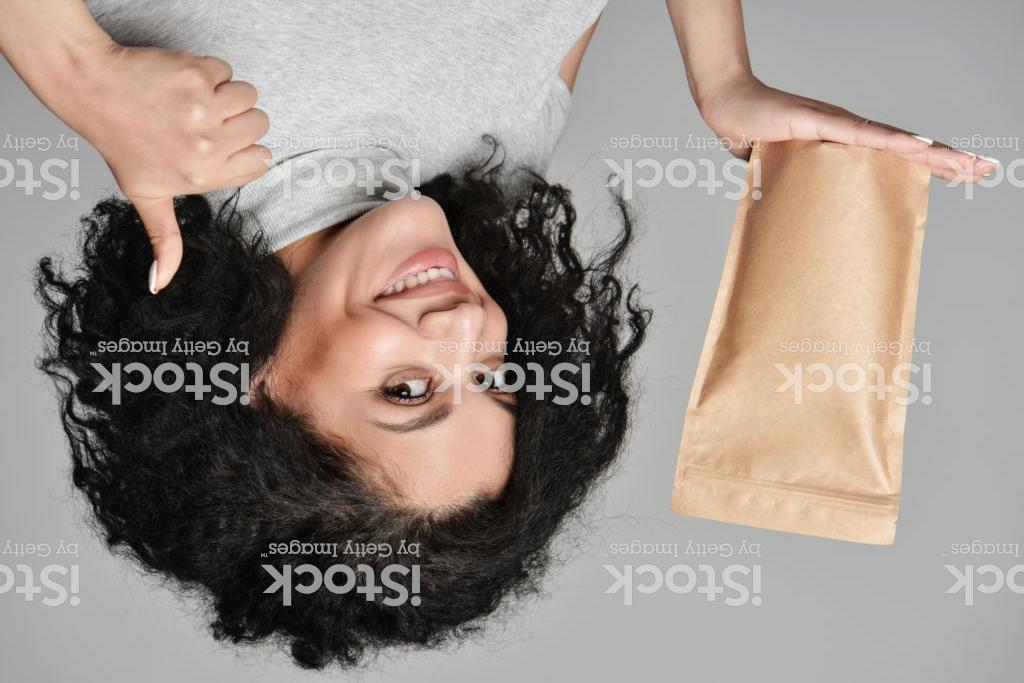thumbsdown: (120, 39, 275, 298)
